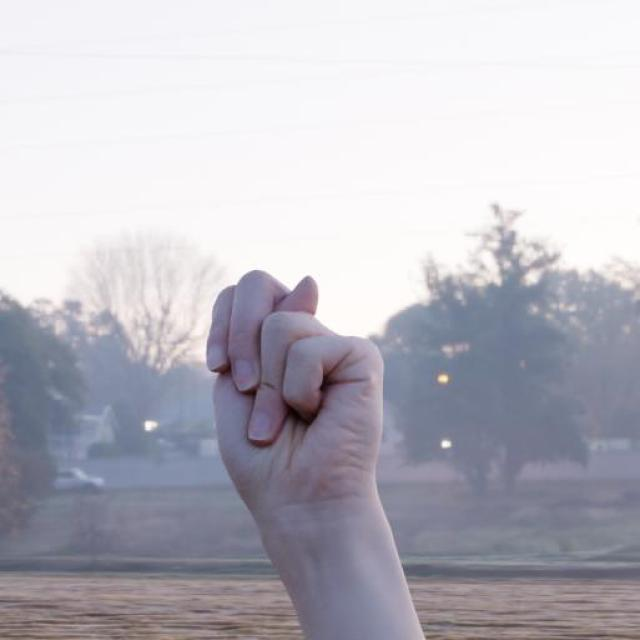N: (204, 264, 387, 520)
